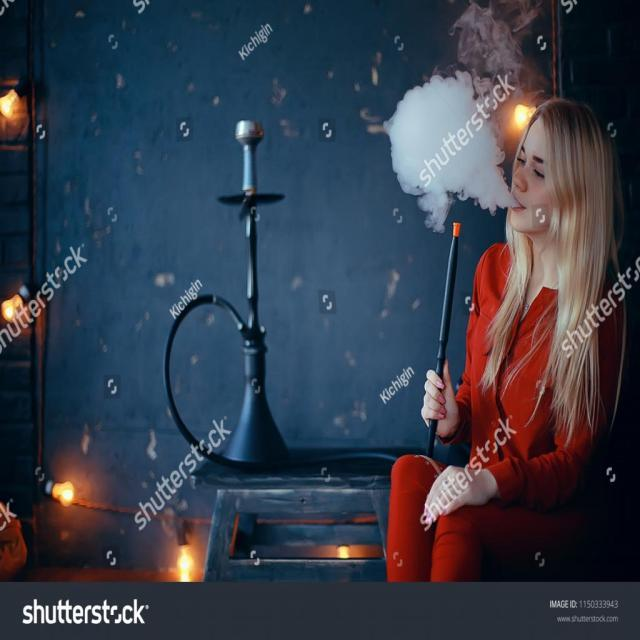smoking: (79, 115, 398, 534), (435, 222, 463, 379)
